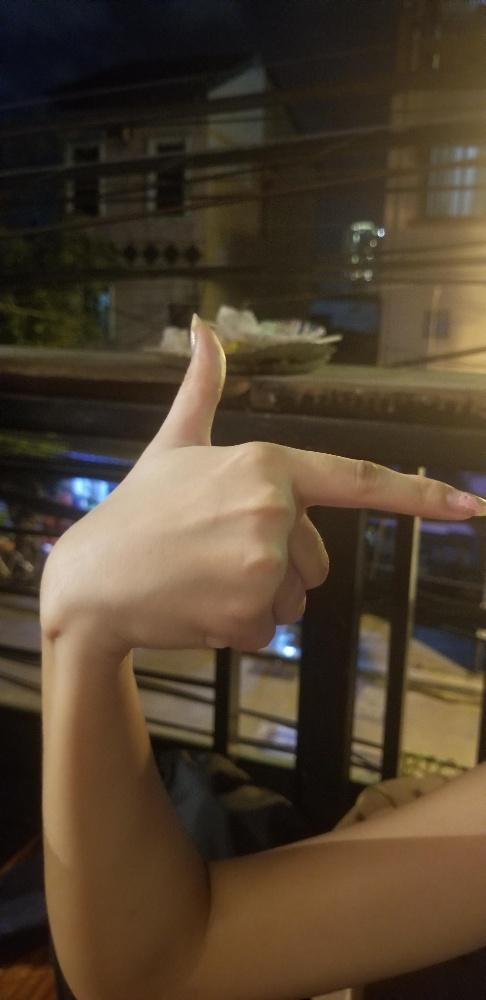g: (37, 309, 485, 658)
